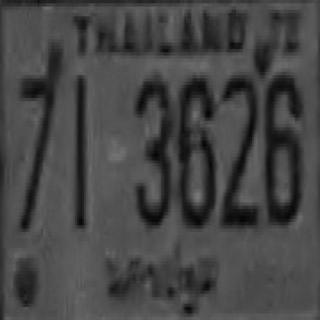N01: (72, 74, 85, 227)
N02: (220, 70, 256, 224)
N03: (133, 73, 171, 224)
N06: (176, 73, 214, 224), (263, 72, 300, 222)
N07: (16, 75, 57, 228)
P28: (101, 240, 219, 314)
